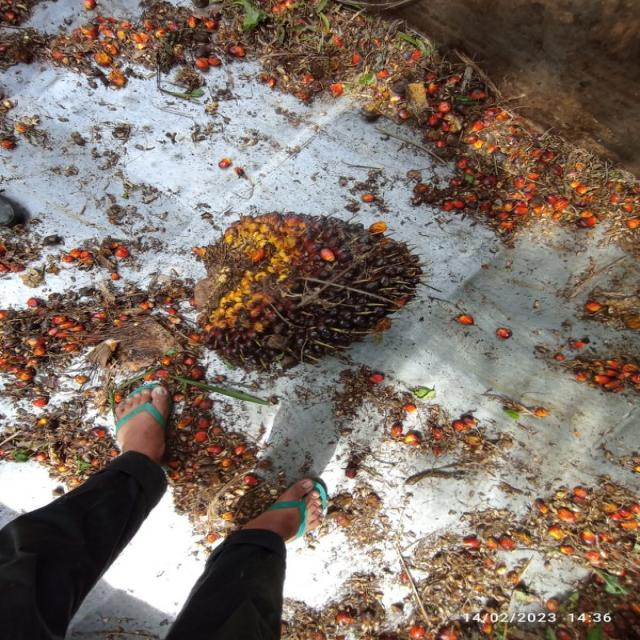fraksi 00: (189, 210, 429, 366)
